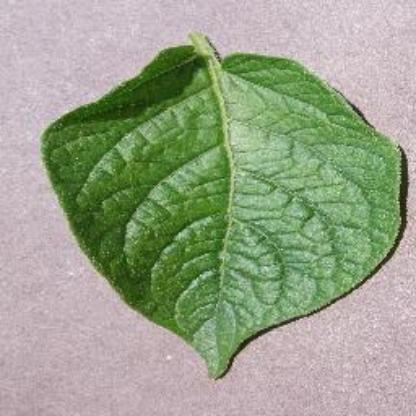Healthy-plant: (40, 32, 408, 380)
